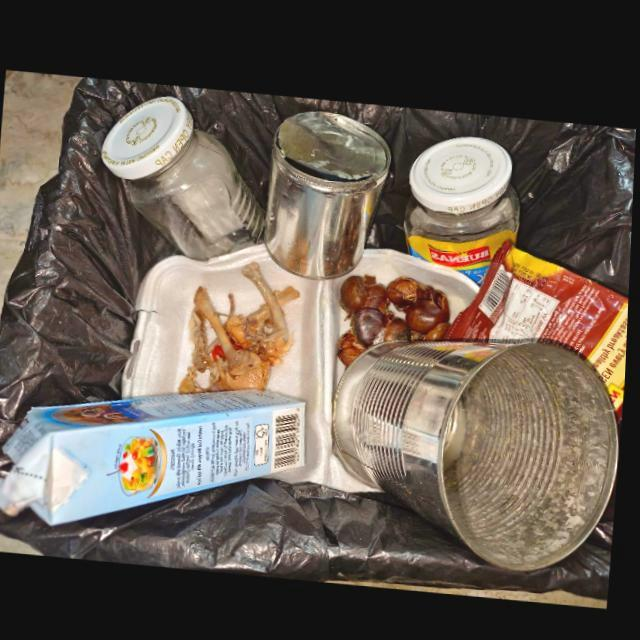aluminum: (334, 331, 623, 566), (265, 107, 392, 276)
glass_bottle: (101, 94, 268, 259), (405, 131, 522, 280)
left_over_food: (181, 258, 302, 392)
plastic_sachet: (448, 233, 631, 412)
